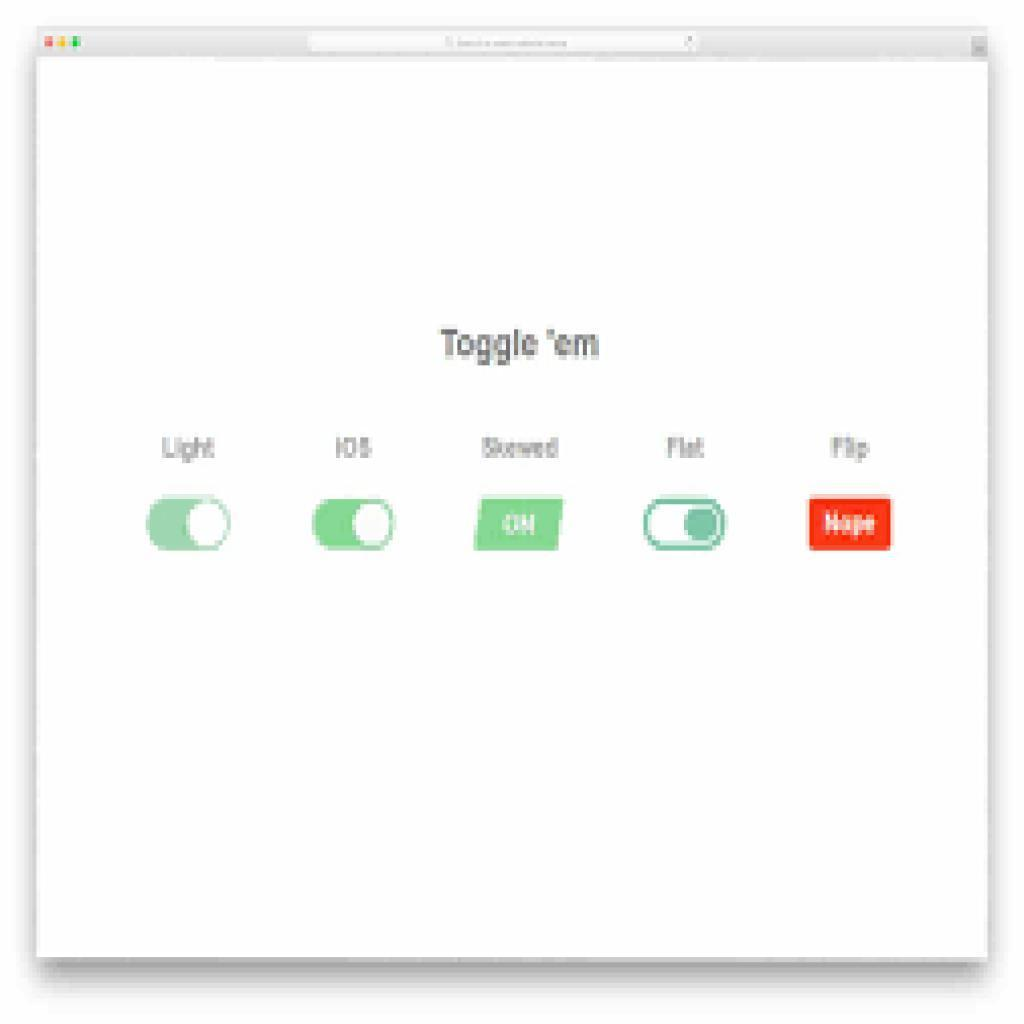switch: (146, 495, 234, 554), (313, 498, 400, 553), (644, 498, 728, 554)
